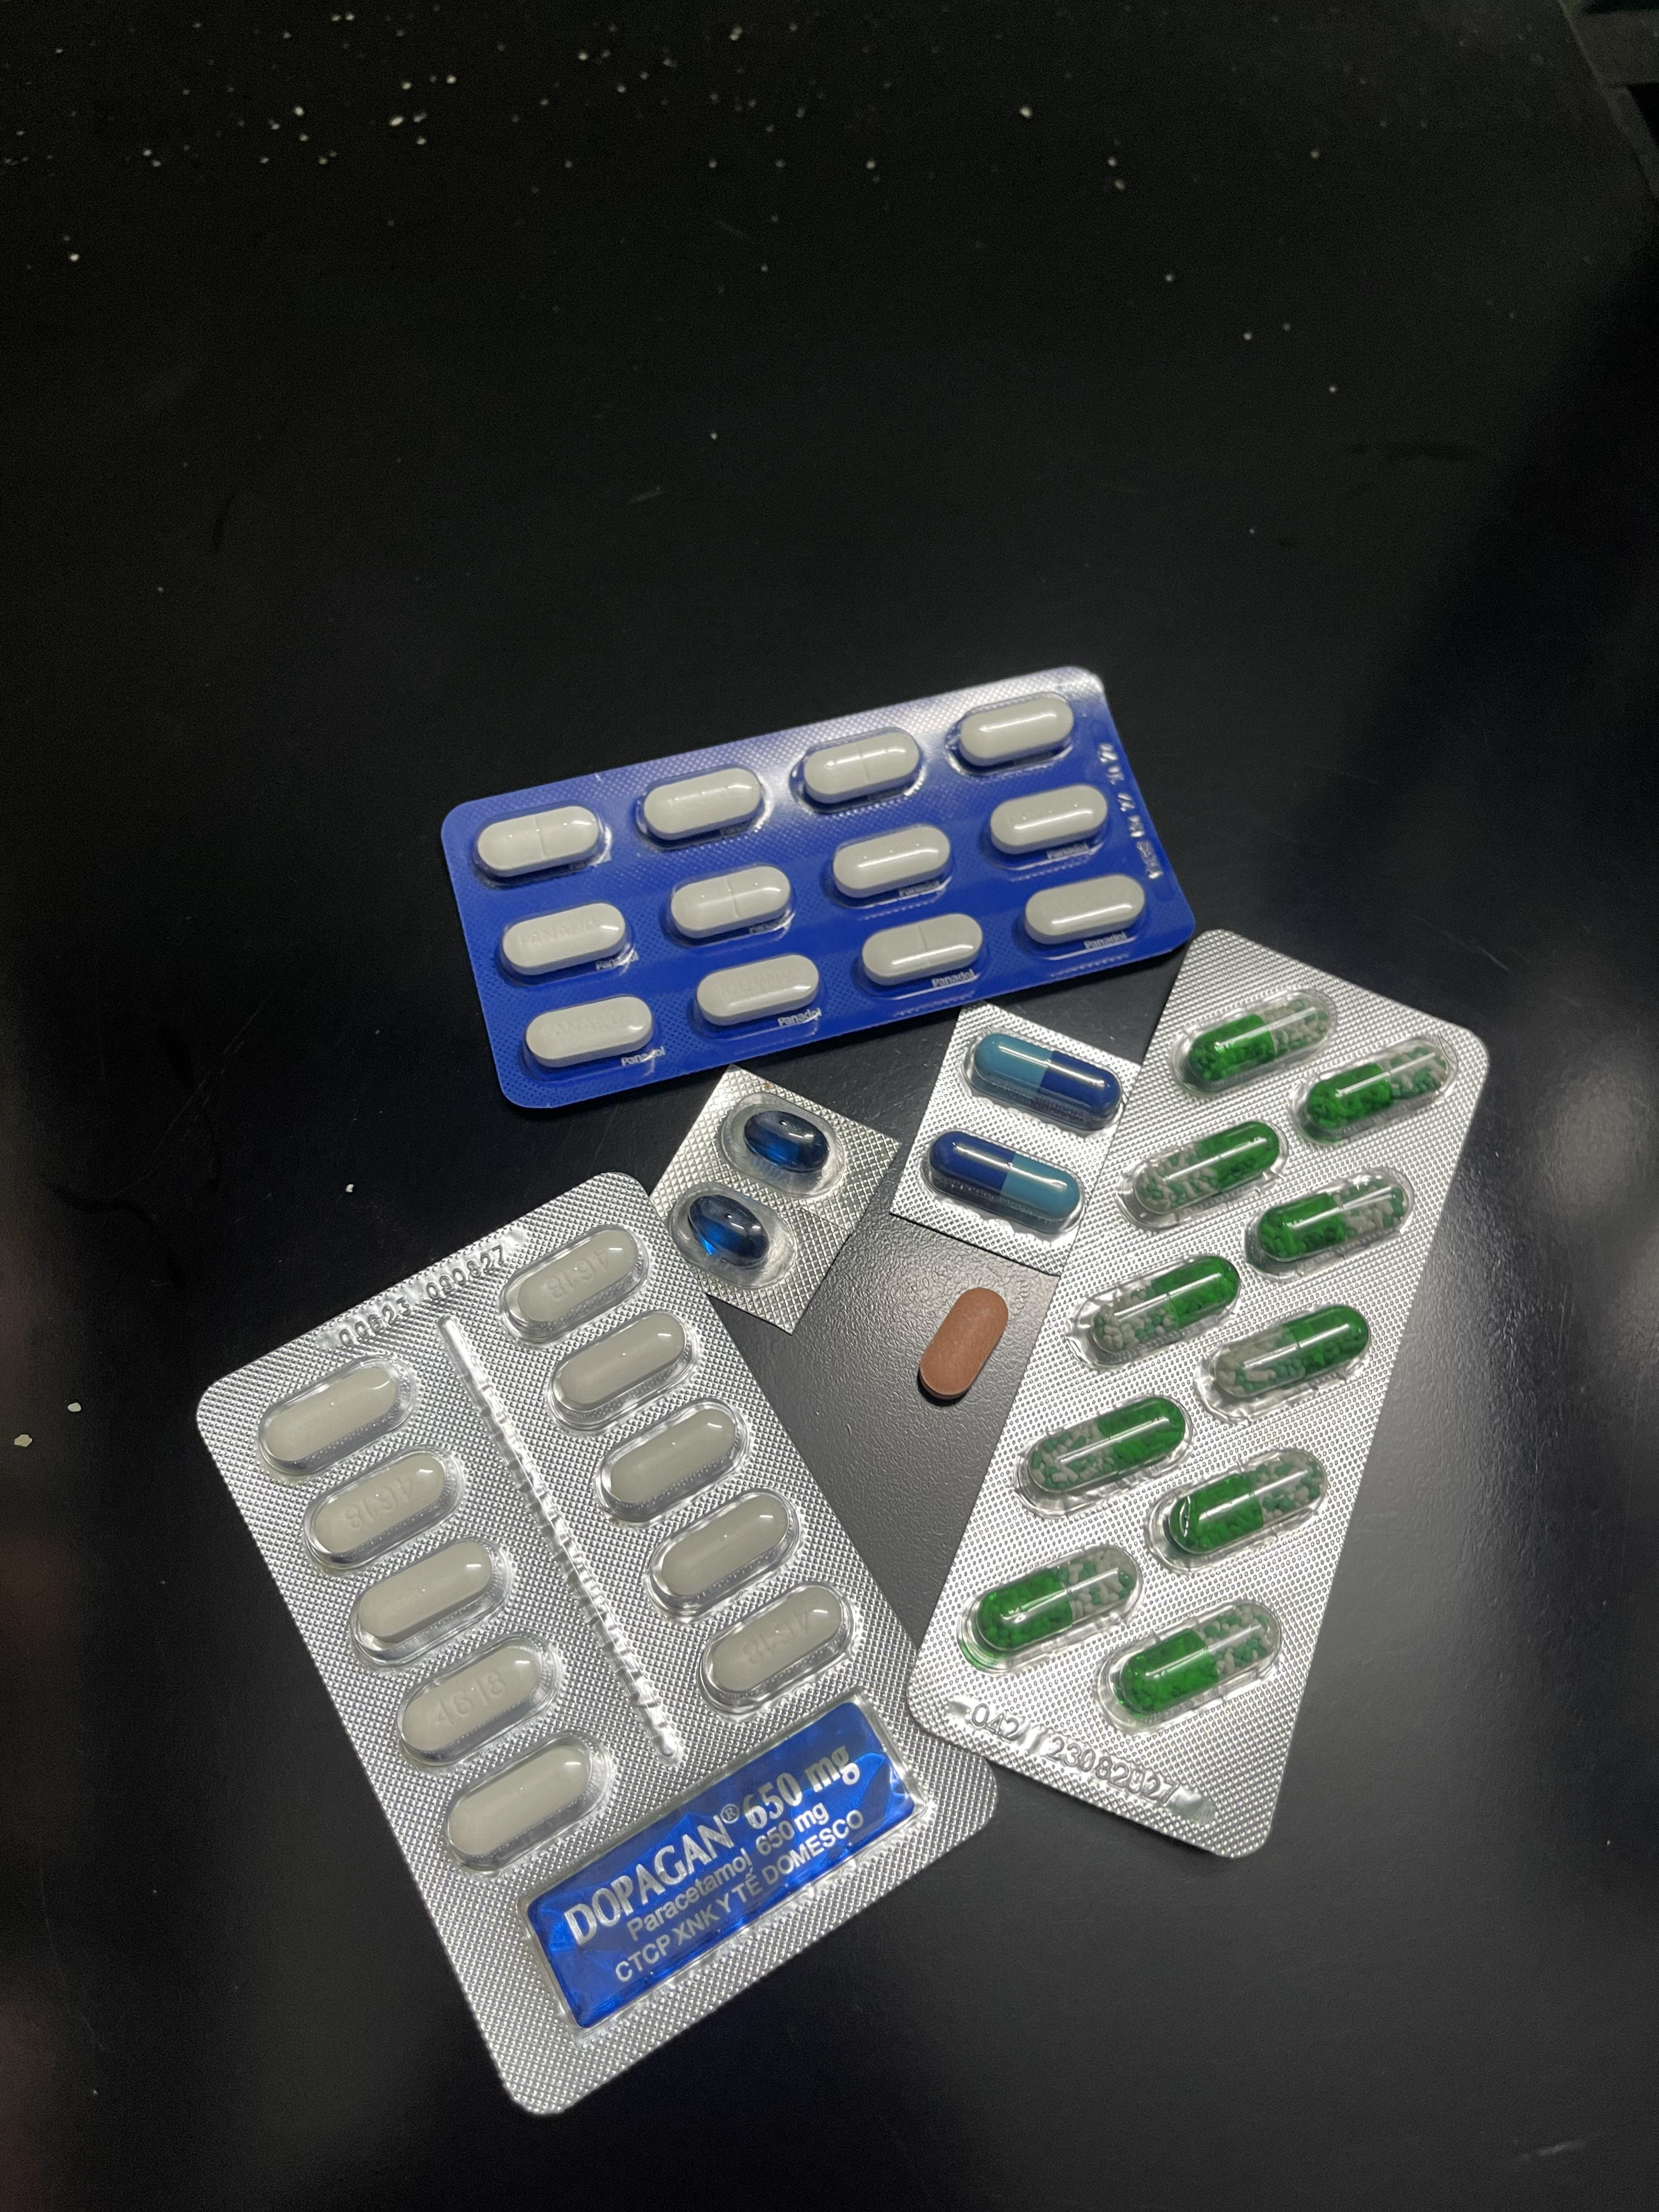Lincomyxin_500mg: (688, 1193, 770, 1263), (744, 1109, 830, 1172)
Loratadine_10mg: (915, 1285, 1009, 1400)
Paracetamol_350mg: (502, 900, 629, 979), (640, 766, 769, 843), (476, 803, 605, 880), (667, 864, 793, 942), (525, 996, 653, 1071), (796, 732, 924, 806), (831, 824, 955, 900), (695, 953, 819, 1029), (863, 913, 986, 989), (1021, 873, 1148, 946), (953, 693, 1073, 768), (988, 784, 1110, 857)
Paracetamol_500mg: (441, 1733, 610, 1869), (396, 1630, 561, 1766), (349, 1536, 511, 1667), (303, 1446, 464, 1575), (701, 1581, 854, 1714), (256, 1352, 416, 1475), (596, 1402, 751, 1529), (643, 1489, 793, 1620), (549, 1310, 692, 1426), (502, 1226, 643, 1339)
Paracetamol_650mg: (1019, 1395, 1188, 1508), (1079, 1249, 1246, 1362), (1121, 1118, 1283, 1226), (1164, 1451, 1324, 1555), (1298, 1038, 1459, 1139), (979, 1550, 1134, 1653), (1244, 1174, 1410, 1270), (1215, 1306, 1371, 1406), (1121, 1613, 1270, 1714), (1183, 1001, 1328, 1085)
pill: (927, 1132, 1086, 1235), (976, 1035, 1122, 1120)
